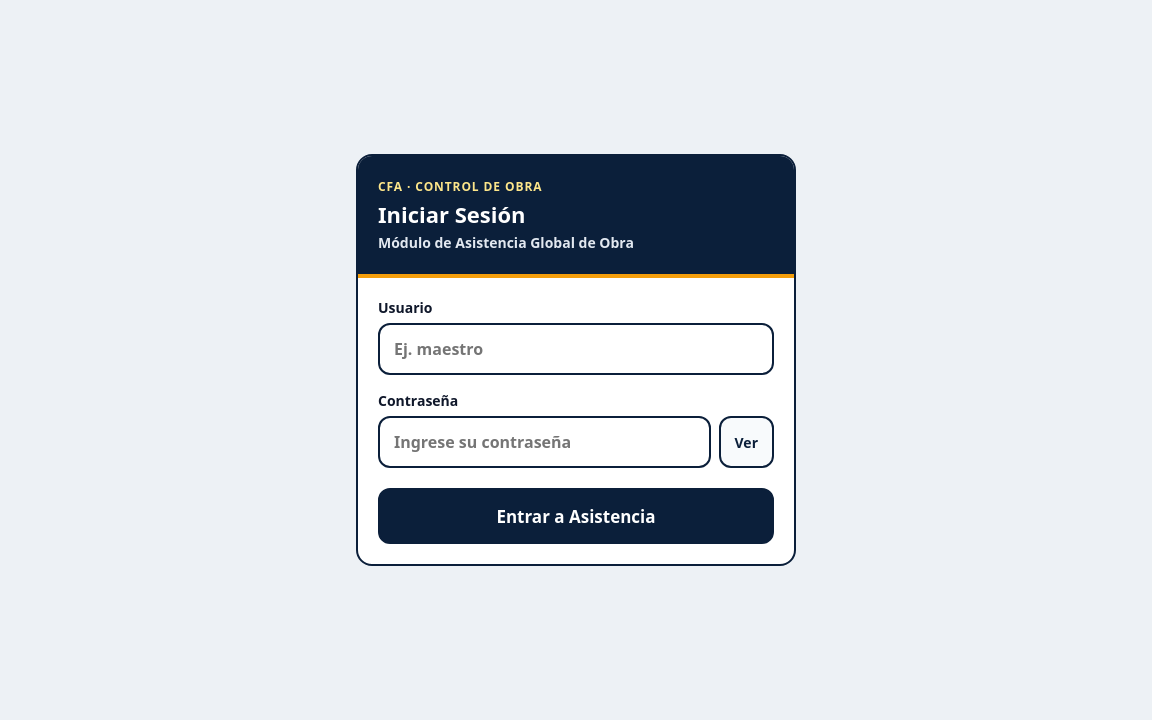
Test: App — Inicio de sesión y vista exclusiva de Asistencias › muestra login al inicio, rechaza clave inválida y al entrar muestra únicamente Asistencias
Expected: the heading "Iniciar Sesión" is shown, [378, 199, 526, 229]
Type "maestro" into the field labelled "Usuario". click: x=576, y=349
box: [378, 323, 774, 375]
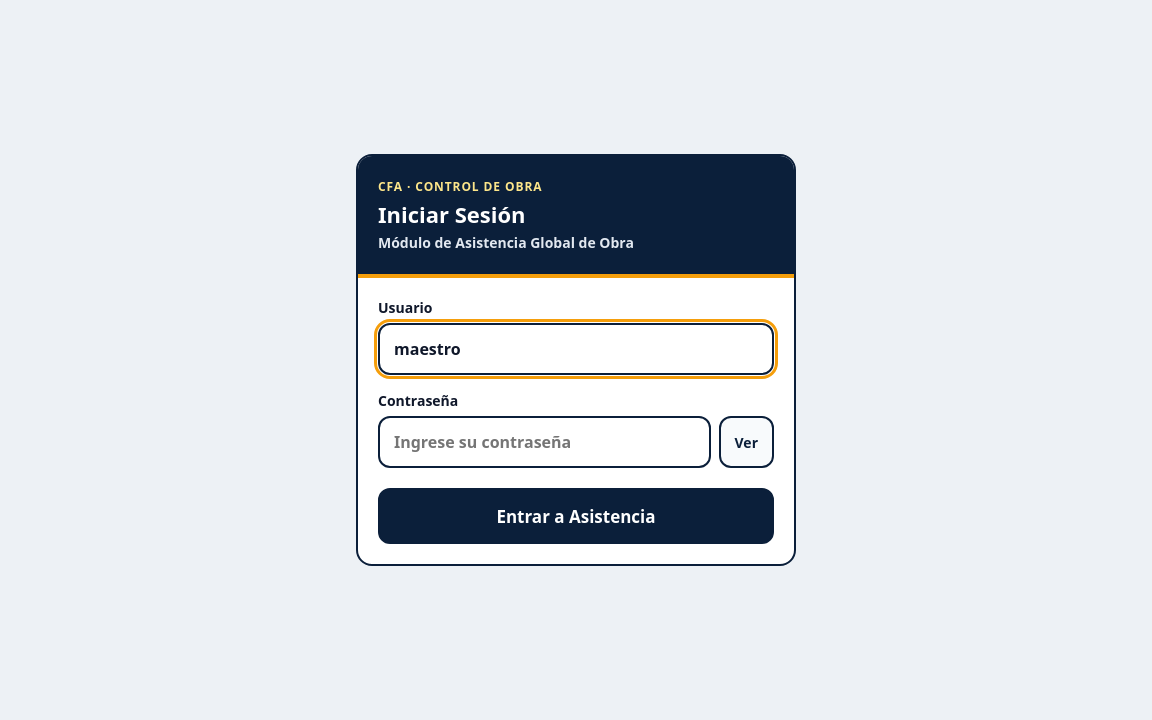
Type "mal" into the password field labelled "Contraseña". click: x=544, y=442
box: [378, 416, 710, 468]
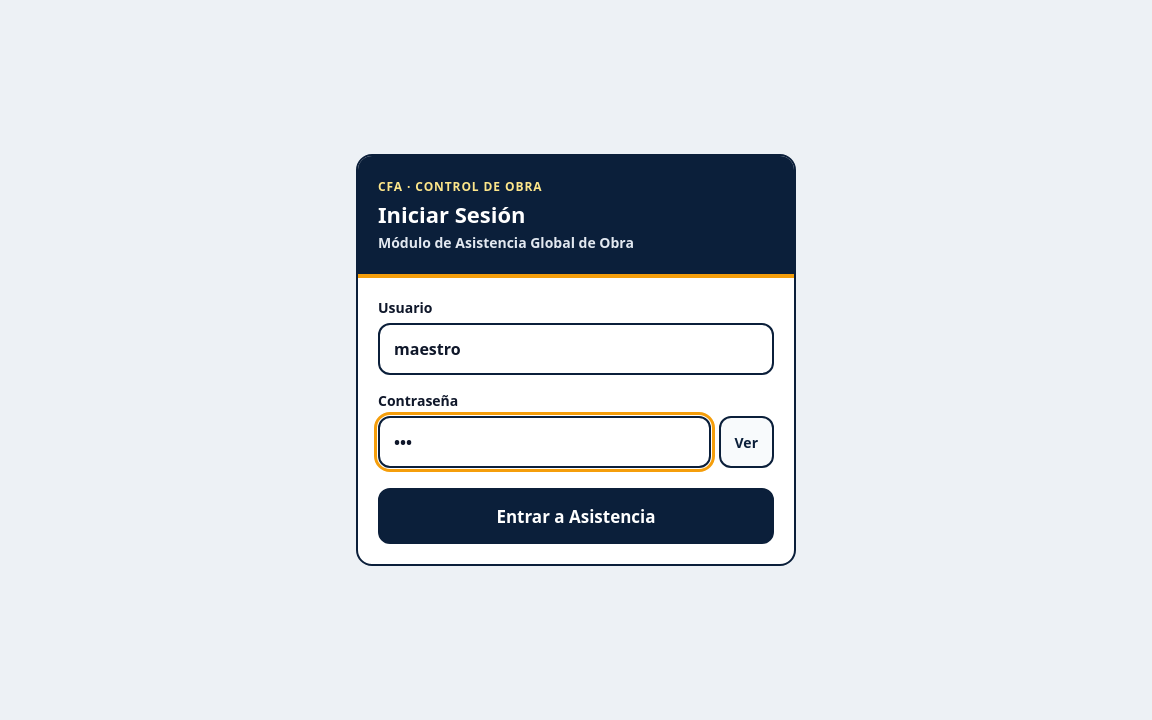
Click the button "Entrar a Asistencia". click: x=576, y=516
box: [378, 488, 774, 544]
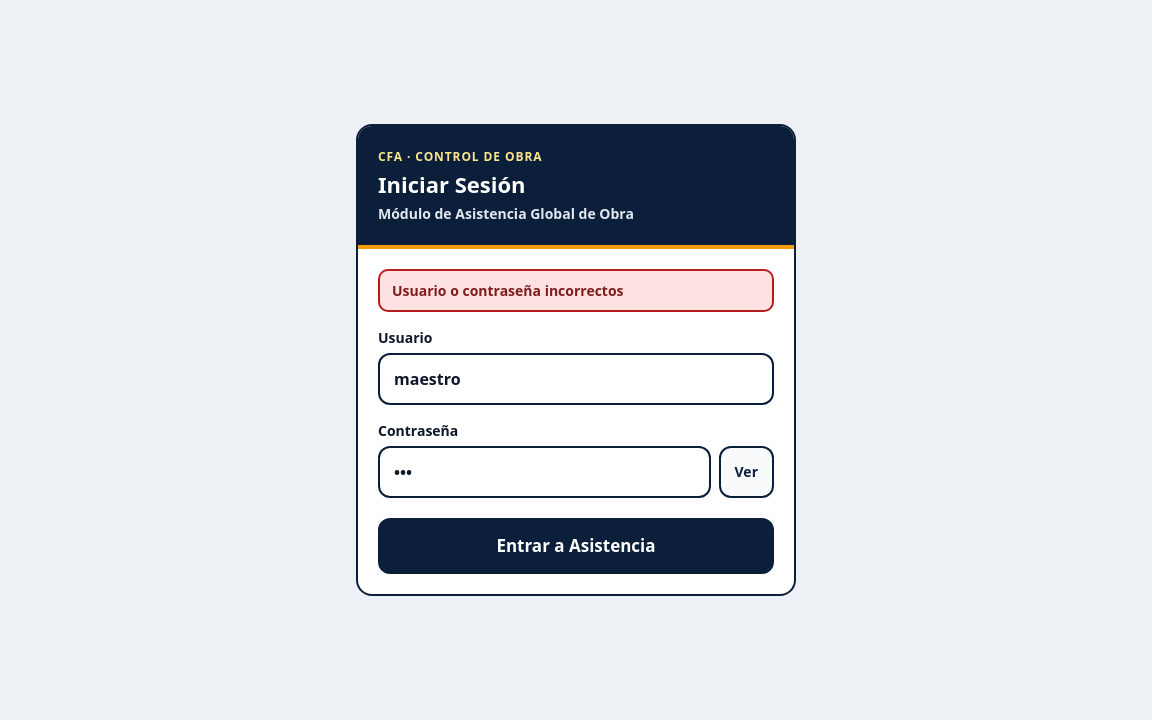
Now the text "Usuario o contraseña incorrectos" is shown, box [378, 269, 774, 312]
# Reintentar con contraseña correcta
Type "cfa2026" into the password field labelled "Contraseña". click: x=544, y=472
box: [378, 446, 710, 498]
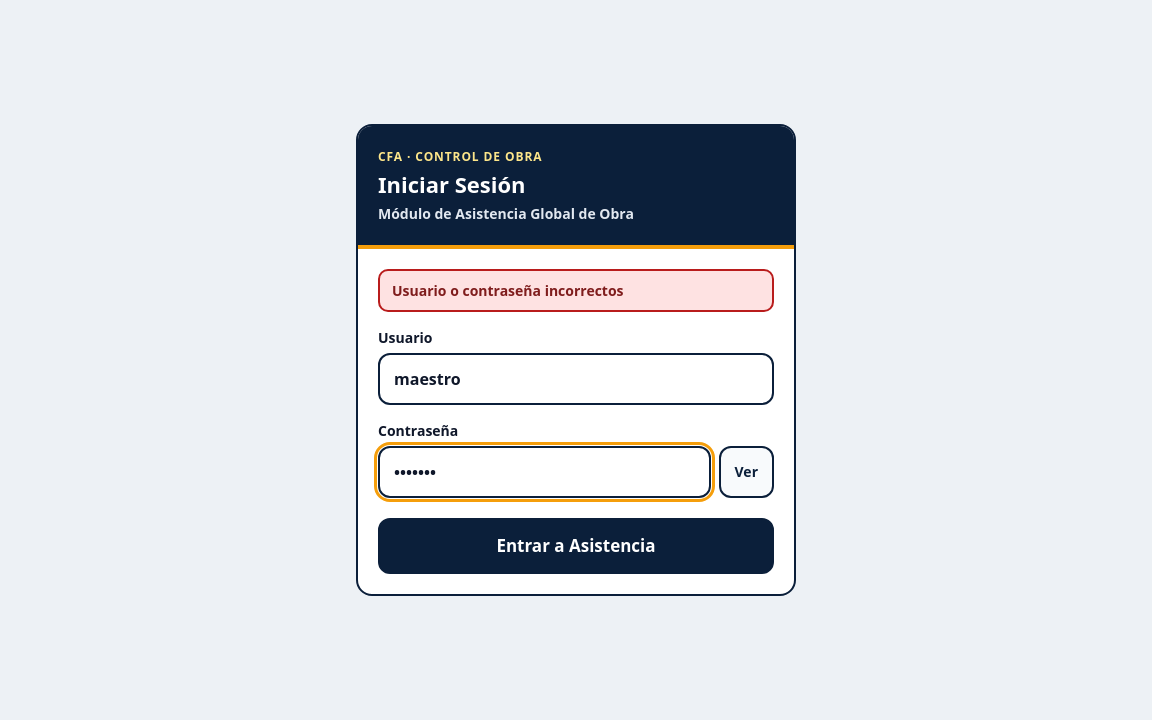
Click the button "Entrar a Asistencia". click: x=576, y=546
box: [378, 518, 774, 574]
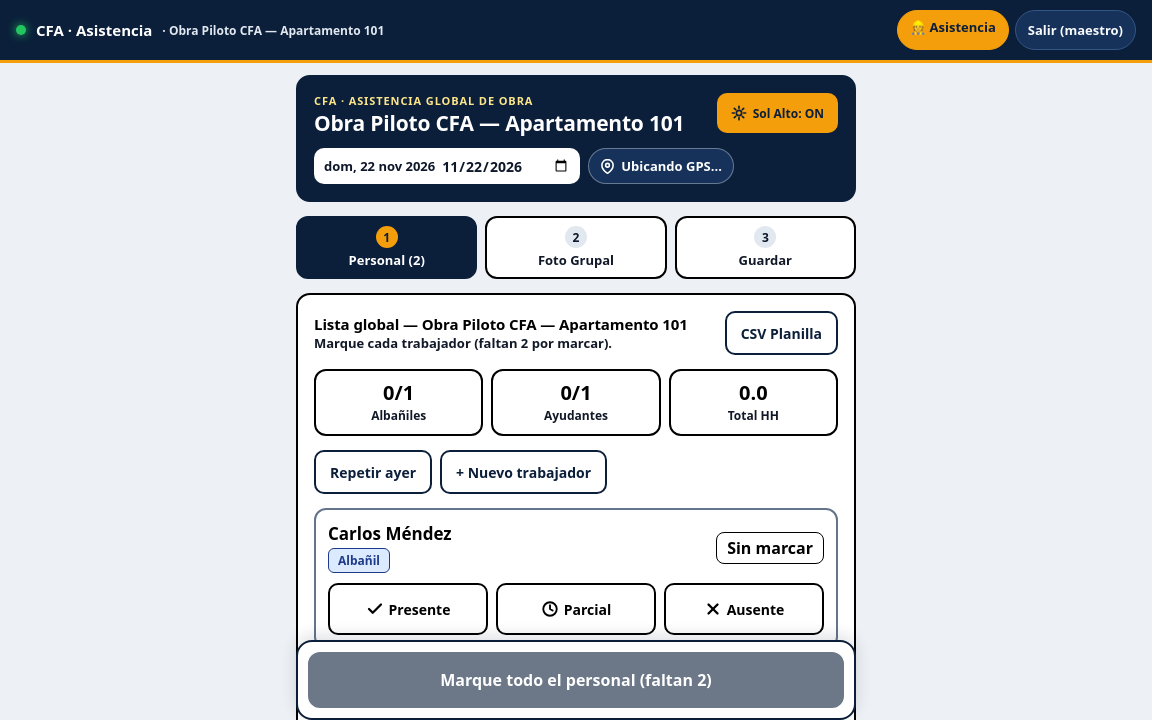
Now the text "Carlos Méndez" is shown, box [328, 522, 452, 545]
Now the text "Lista global — Obra Piloto CFA — Apartamento 101" is shown, box [314, 314, 688, 334]
# Cerrar sesión regresa al login
Click the button "Salir (maestro)". click: x=1075, y=30
box: [1015, 10, 1136, 50]
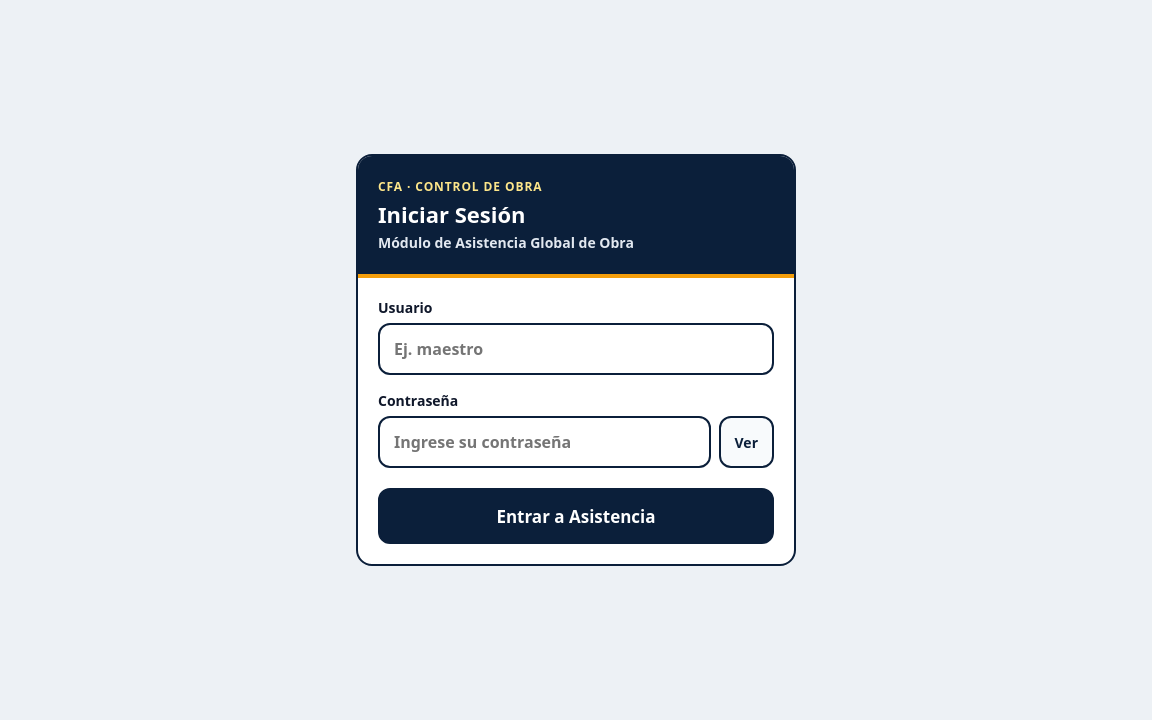
Now the heading "Iniciar Sesión" is shown, box [378, 199, 526, 229]
